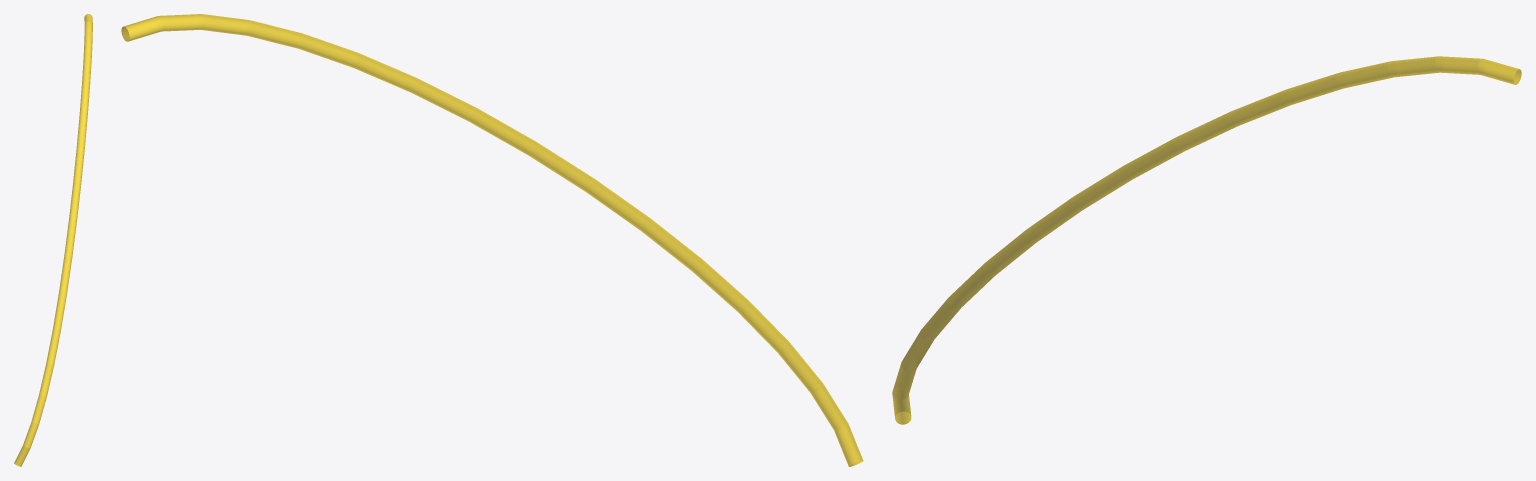
File: Event_17758602_track_59.fbx
3 views of the same model, side by side, from view 1: azimuth 30°, elevation 25°; view 2: azimuth 150°, elevation 25°; view 3: azimuth 270°, elevation 25° (orthographic). The views are drawn at different scales.
Visible parts, largest first — view 1: Model; view 2: Model; view 3: Model.
Boxes of the visible parts, left/top/right/bottom form: Model: left=14, top=14, right=92, bottom=466; Model: left=121, top=14, right=863, bottom=466; Model: left=892, top=56, right=1521, bottom=424.
Bounding box in the file's own units: 1.29 × 1.53 × 1.53.
